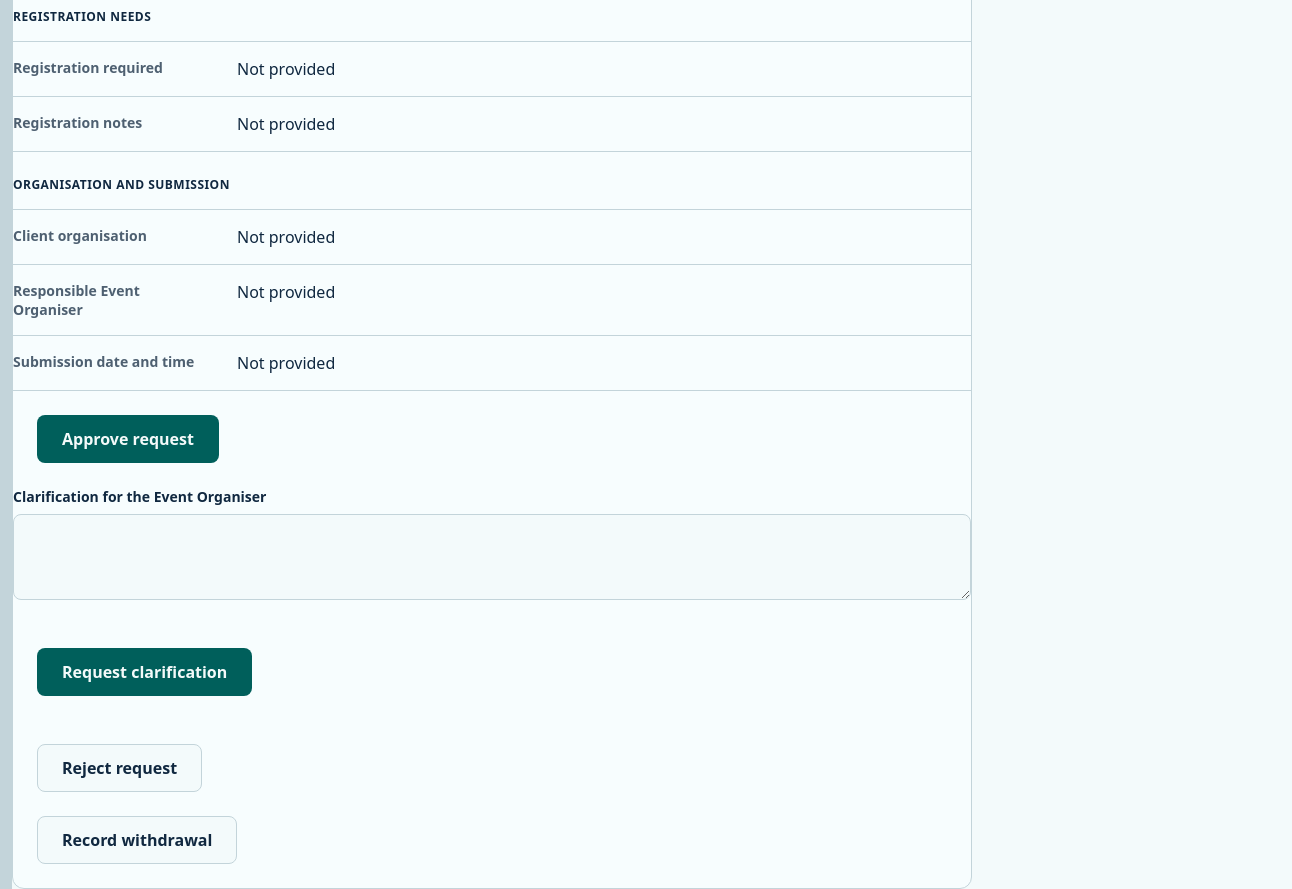
Test: [QA-SPL-68-108] opens a labelled reason box that starts empty, without sending anything
This screenshot has width=1292, height=889.
(page scrolled)
Click the button "Reject request".
click(120, 768)  # box [37,744,202,792]
(page scrolled)
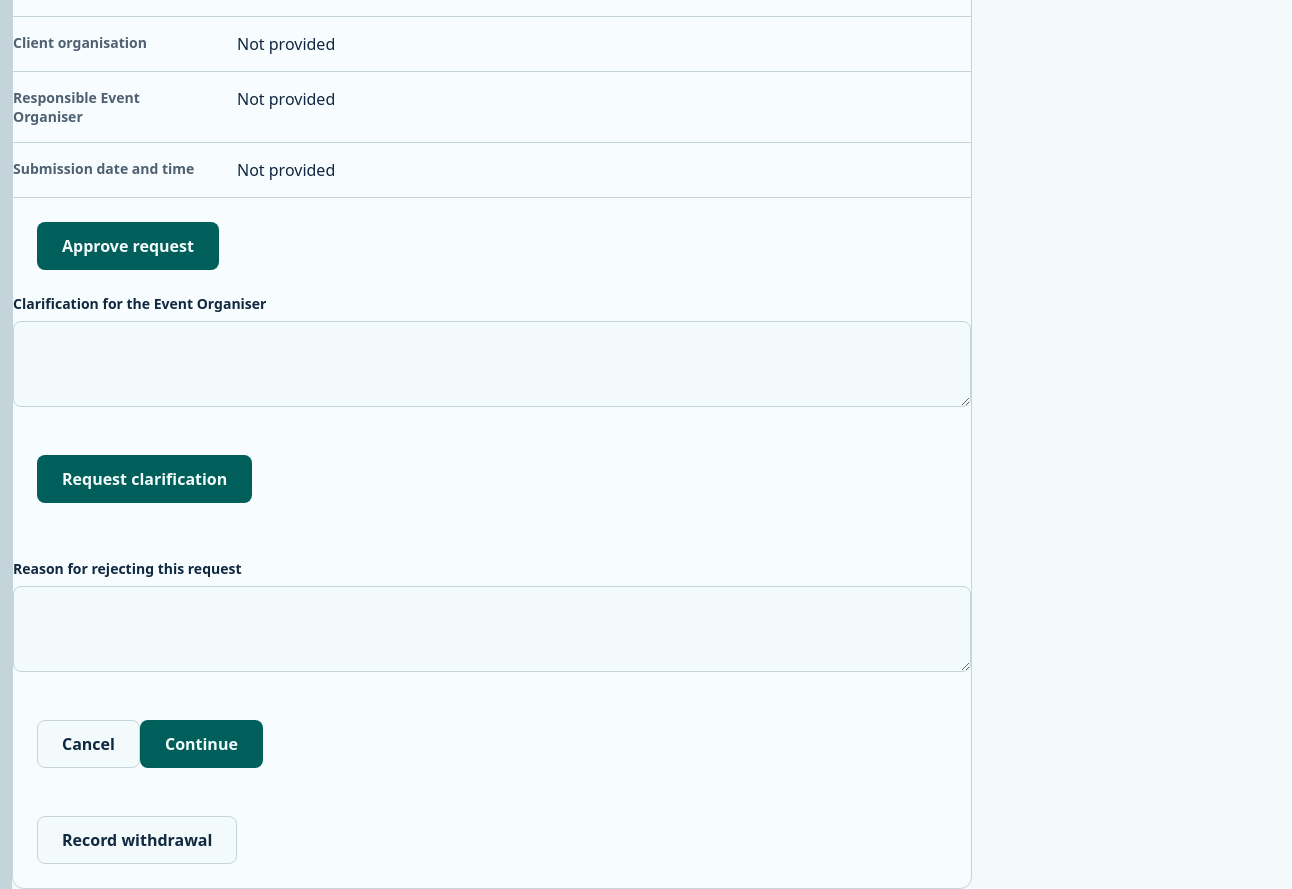
Check: the text box labelled "Reason for rejecting this request" is empty, box [13,586,971,672]
Check: the button "Continue" is shown, box [140,720,263,768]
